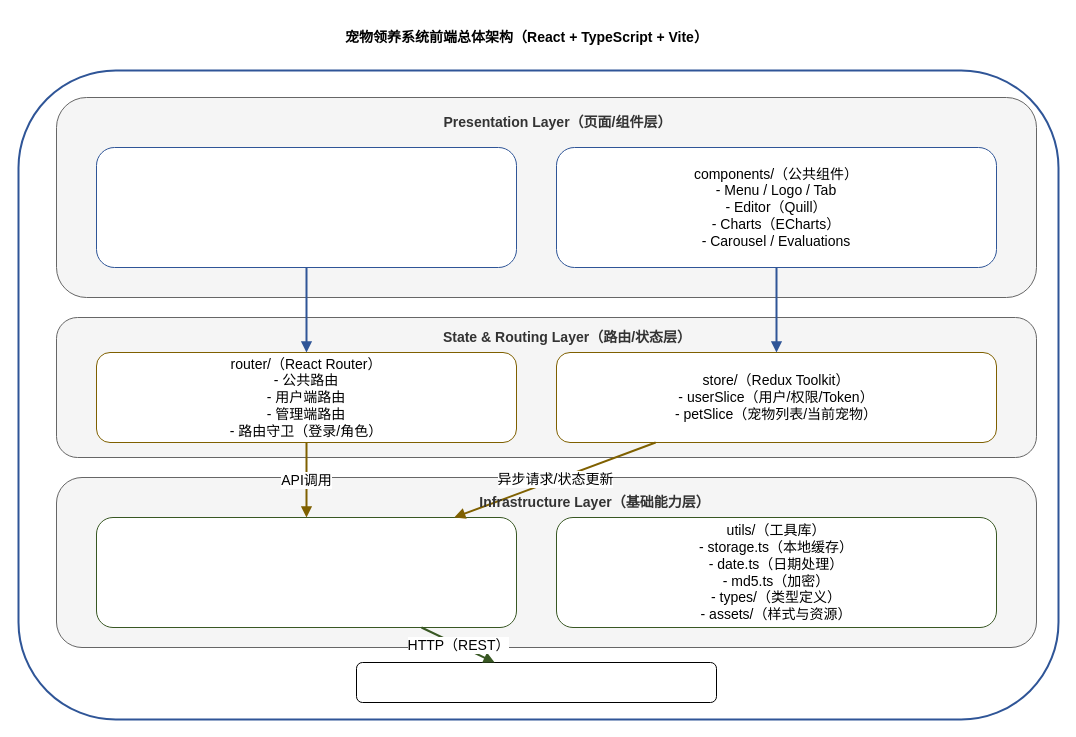
The diagram is 1076 pixels wide and 737 high, and some of its shapes have lost their labels. Here are the shapes that lost their labels. From the top down, the centre of each, then its label:
the point at 306,207: views/（页面视图） - user/ 用户端 - admin/ 管理端 - login/ register/ - view/ 公共页面
the point at 306,572: utils/request.ts（Axios封装） - baseURL/headers - 请求拦截：Token注入 - 响应拦截：统一错误处理
the point at 536,682: 后端API服务
